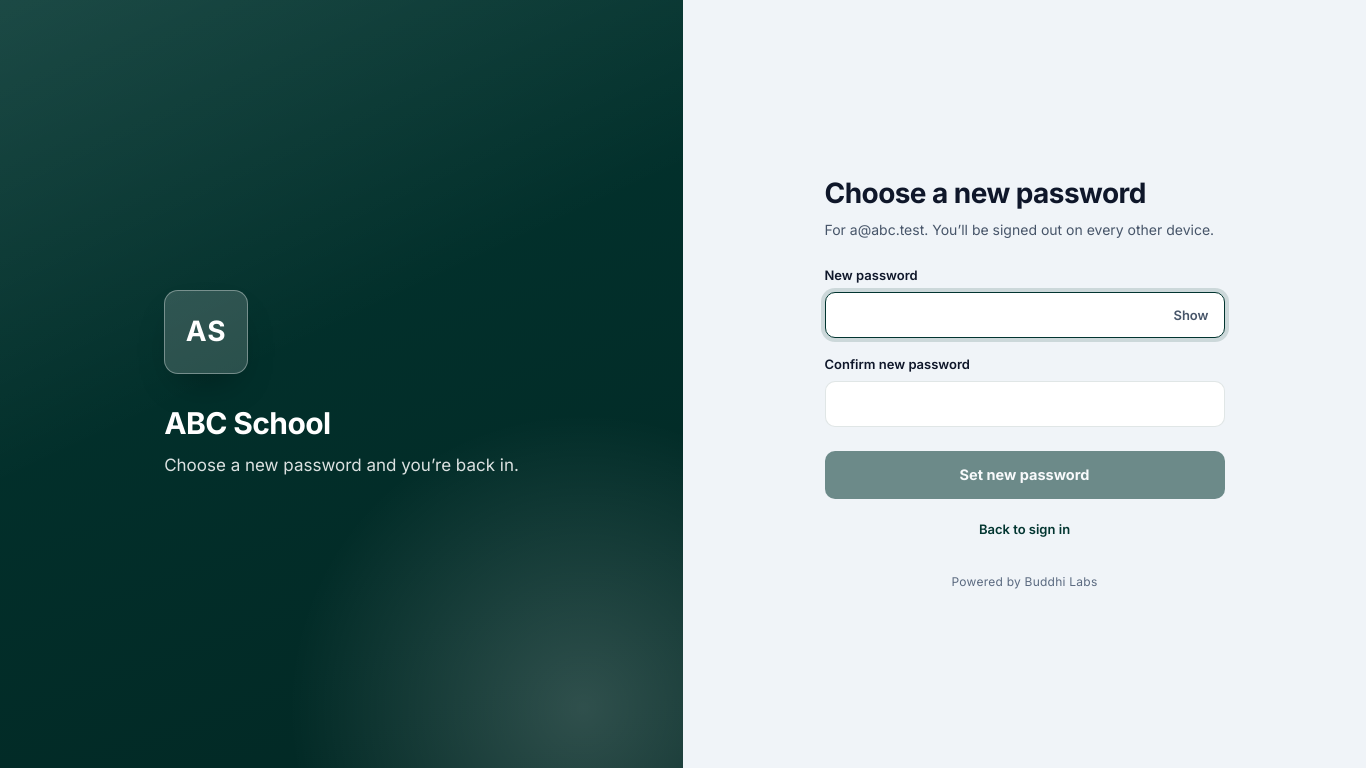
Test case: reset password › sets the new password and offers sign-in
In the password field labelled "New password": [1024, 315] box top-left (824, 292), bottom-right (1224, 338), type "Brand-New-77!"
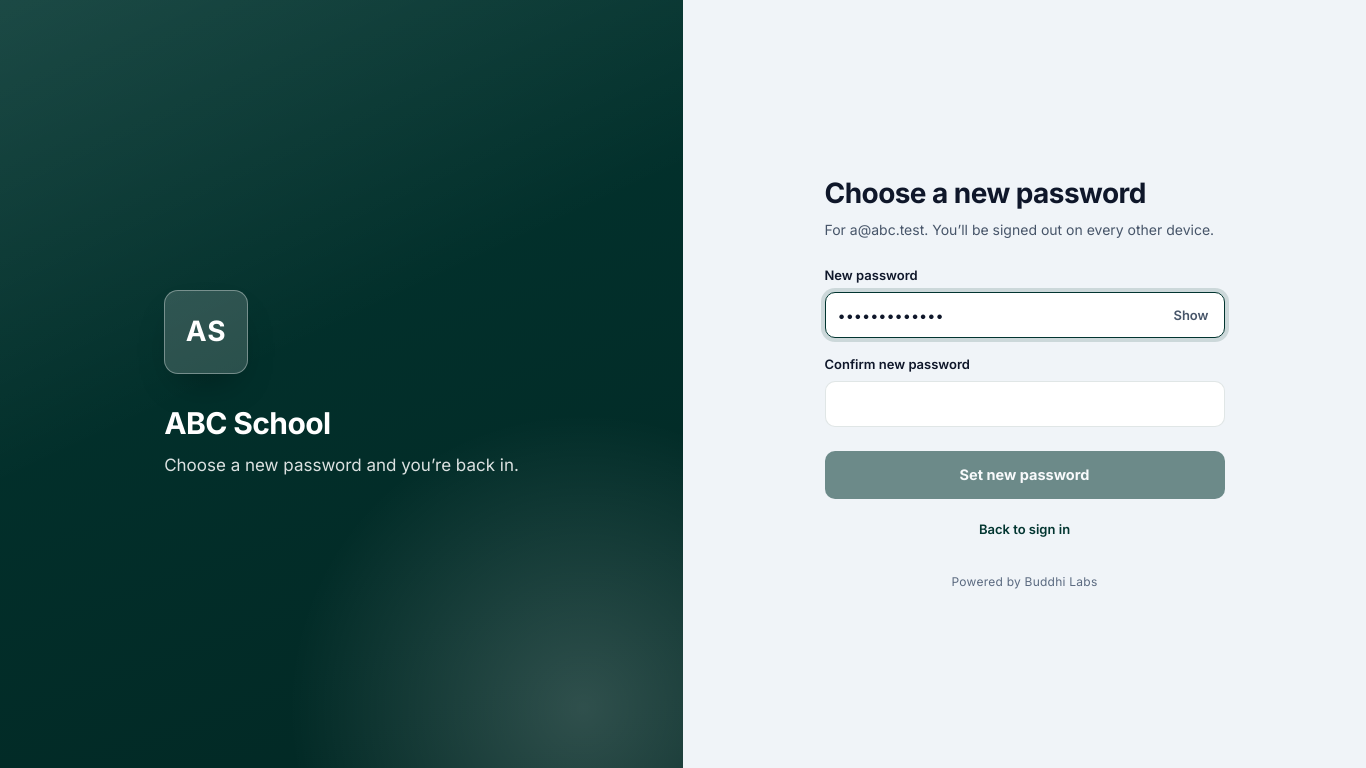
In the password field labelled "Confirm new password": [1024, 404] box top-left (824, 381), bottom-right (1224, 427), type "Brand-New-77!"
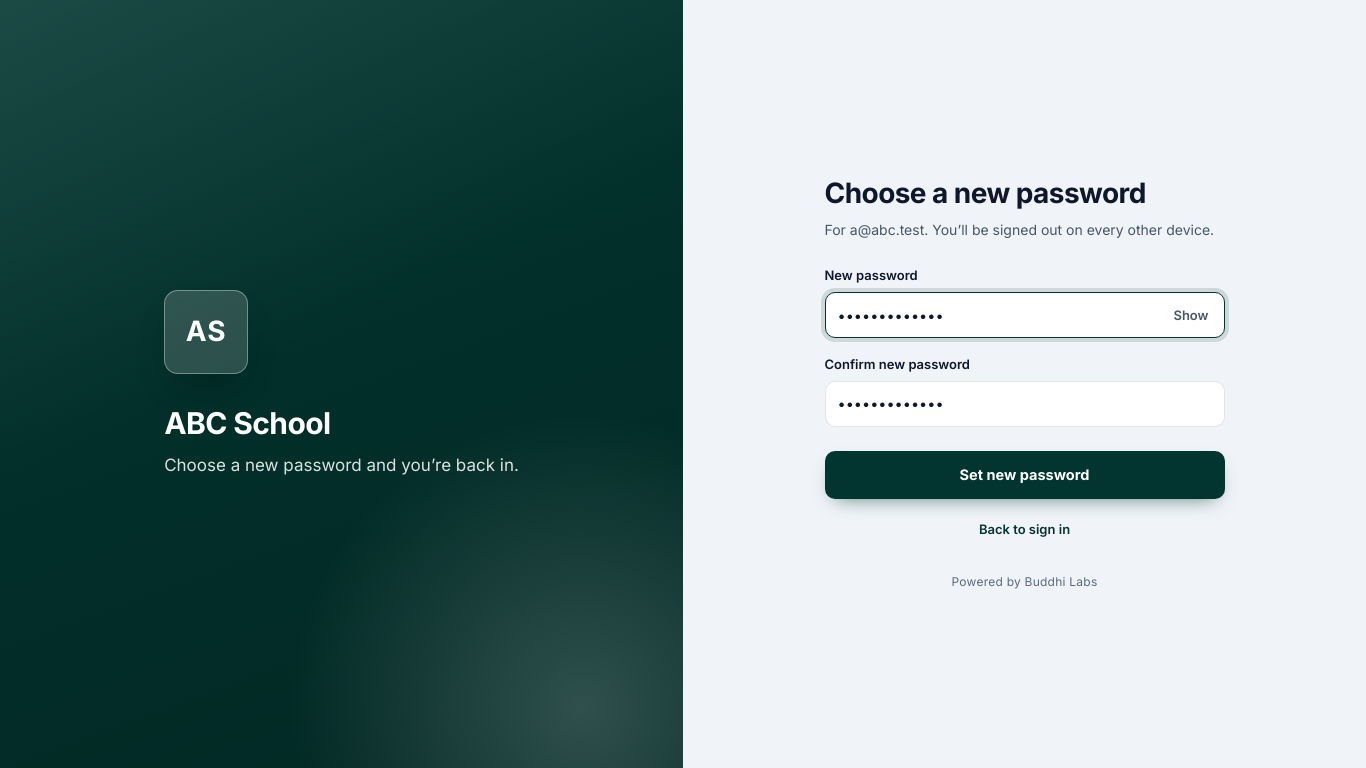
Click the button "Set new password": [1024, 475] box top-left (824, 451), bottom-right (1224, 499)
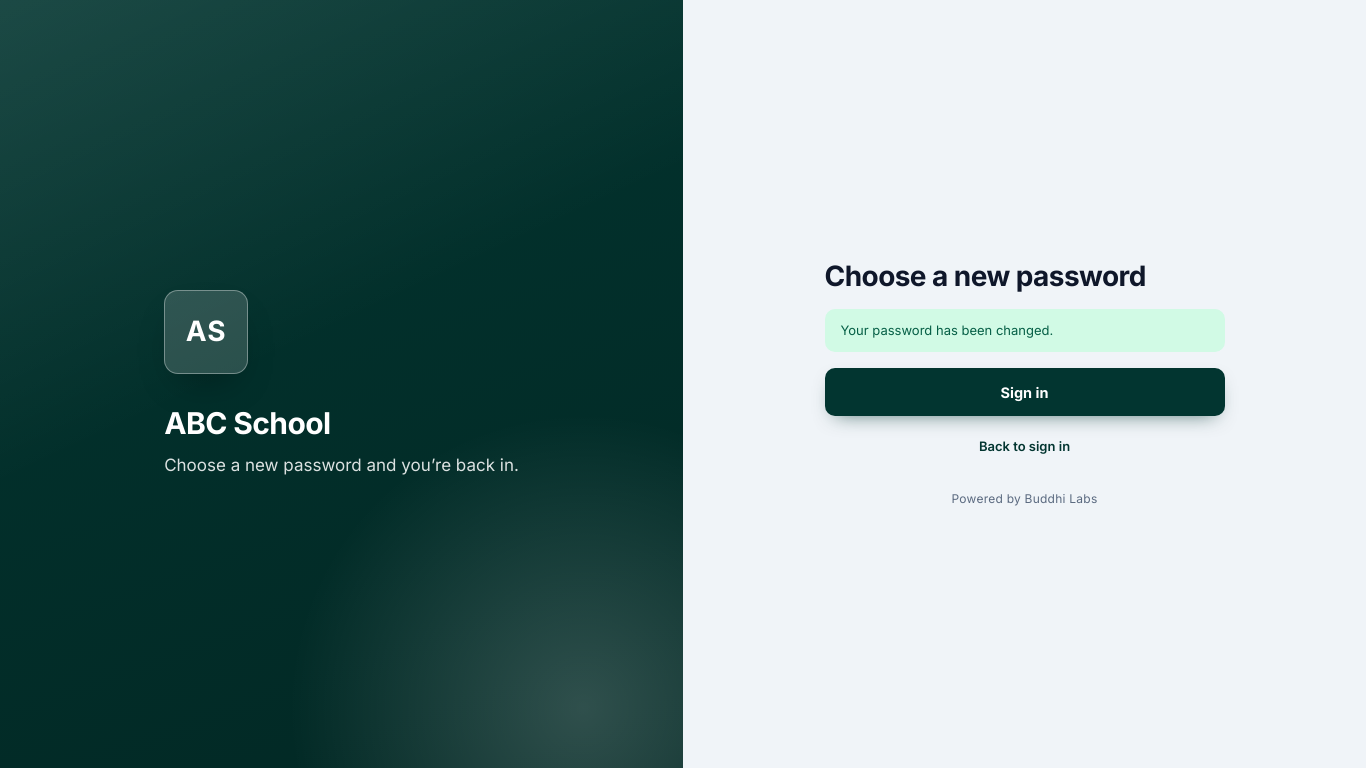
expect the message shows "changed": met, box top-left (840, 322), bottom-right (1053, 338)
